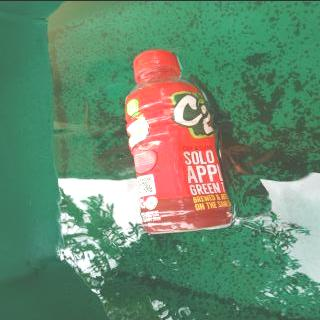bottle: (122, 47, 236, 234)
